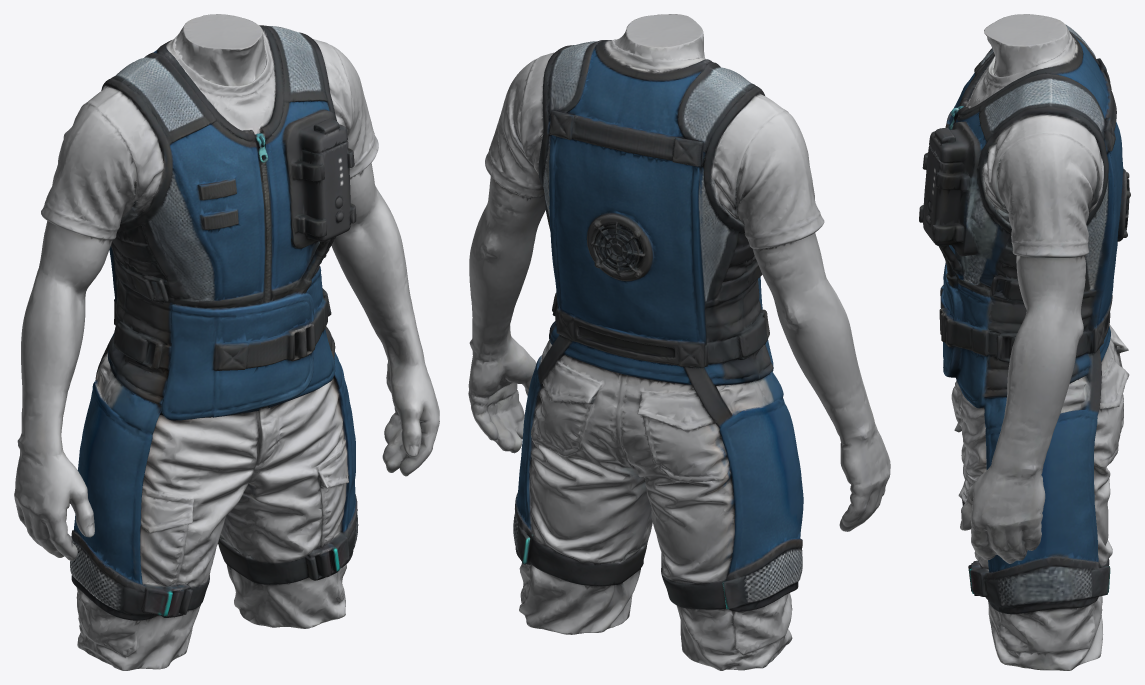
File: BLUE_v1-web.glb
3 views of the same model, side by side, from view 1: azimuth 30°, elevation 25°; view 2: azimuth 150°, elevation 25°; view 3: azimuth 270°, elevation 25° (orthographic). The views are drawn at different scales.
Parts seen in each view (by area): view 1: haptic vest 3d model; view 2: haptic vest 3d model; view 3: haptic vest 3d model.
Part boxes in pixels (x1,y1,x2,y2): haptic vest 3d model: (14, 14, 439, 670); haptic vest 3d model: (468, 14, 890, 670); haptic vest 3d model: (919, 14, 1130, 670).
Size of the model in its own units: 0.4853 by 0.6814 by 0.224.
1 material, 1 textured.
